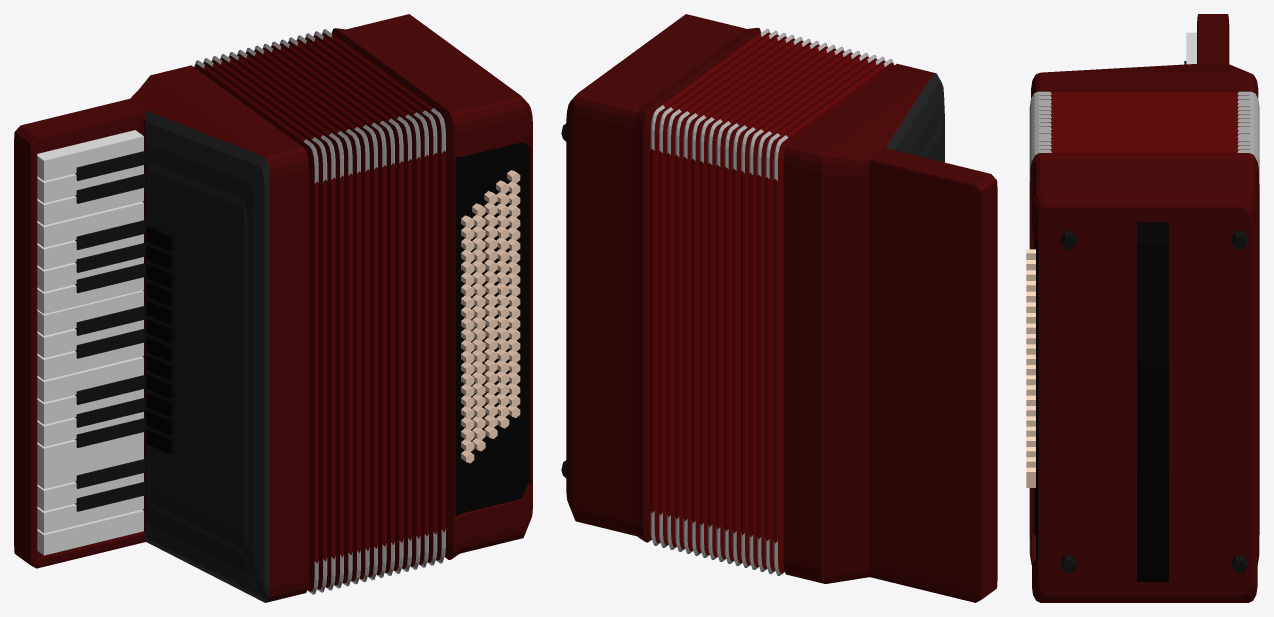
The model's file is Accordion09.fbx.
3 renders of one model, left to right at view 1: azimuth 30°, elevation 25°; view 2: azimuth 150°, elevation 25°; view 3: azimuth 270°, elevation 25°, orthographic. The views are drawn at different scales.
Visible parts, largest first — view 1: Cube.012; view 2: Cube.012; view 3: Cube.012.
Part boxes in pixels (bbox=[...]): Cube.012: bbox=[14, 14, 532, 602]; Cube.012: bbox=[561, 14, 997, 602]; Cube.012: bbox=[1026, 14, 1259, 602].
Bounding box in the file's own units: 57.38 × 54.85 × 27.59.
